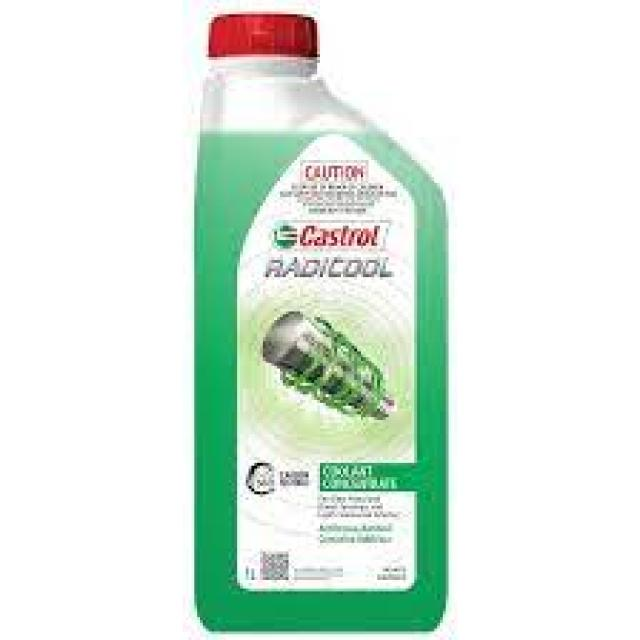coolant: (193, 5, 453, 639)
